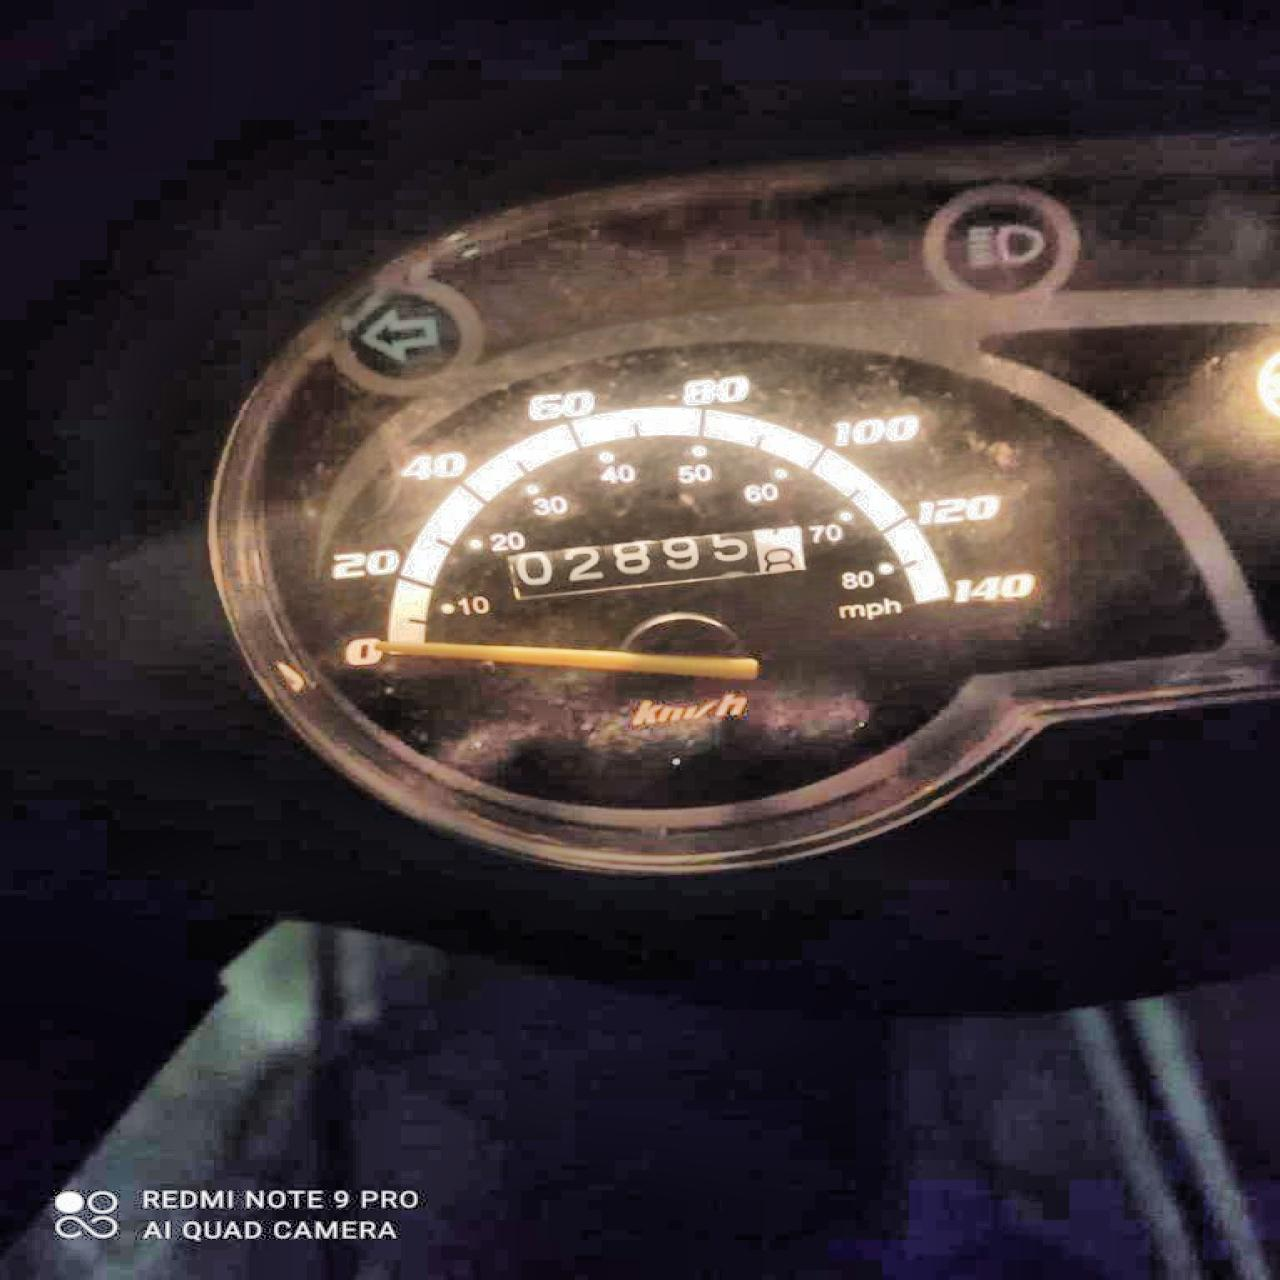0: (511, 549, 553, 587), (504, 529, 524, 550)
2: (561, 544, 604, 584), (495, 531, 506, 552)
5: (708, 529, 749, 564)
8: (610, 539, 652, 576), (758, 544, 797, 574)
9: (659, 535, 701, 571)
odometer: (495, 518, 810, 604)
